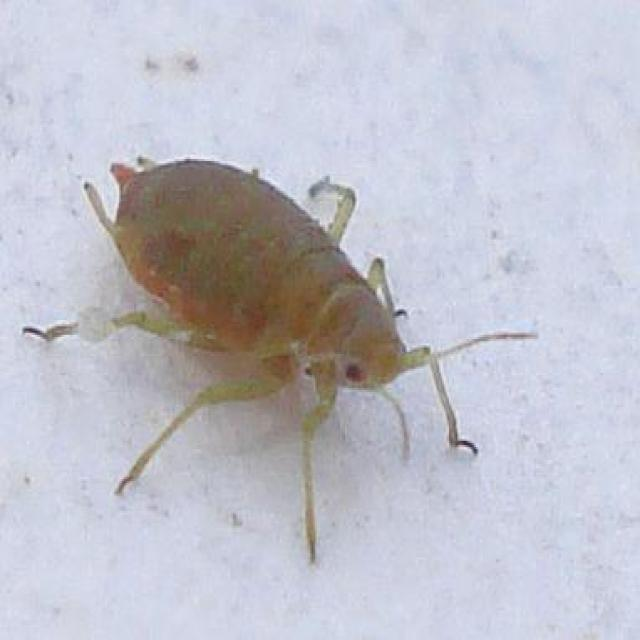Aphids: (57, 136, 529, 578)
